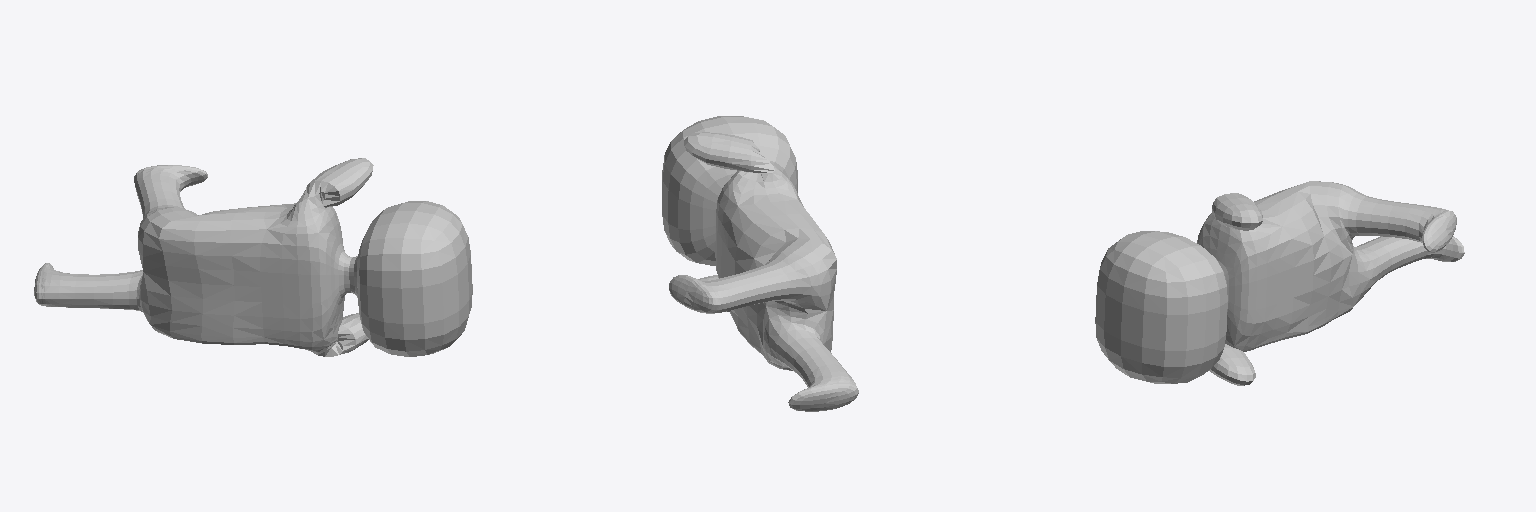
Rendered from antman_push_13.obj.
3 renders of one model, left to right at view 1: azimuth 30°, elevation 25°; view 2: azimuth 150°, elevation 25°; view 3: azimuth 270°, elevation 25°, orthographic.
Visible parts, largest first — view 1: Cube; view 2: Cube; view 3: Cube.
Part boxes in pixels (x1,y1,x2,y2): Cube: (34, 158, 472, 356); Cube: (662, 116, 858, 411); Cube: (1095, 181, 1464, 385).
Size of the model in its own units: 1.54 by 0.8339 by 1.59.